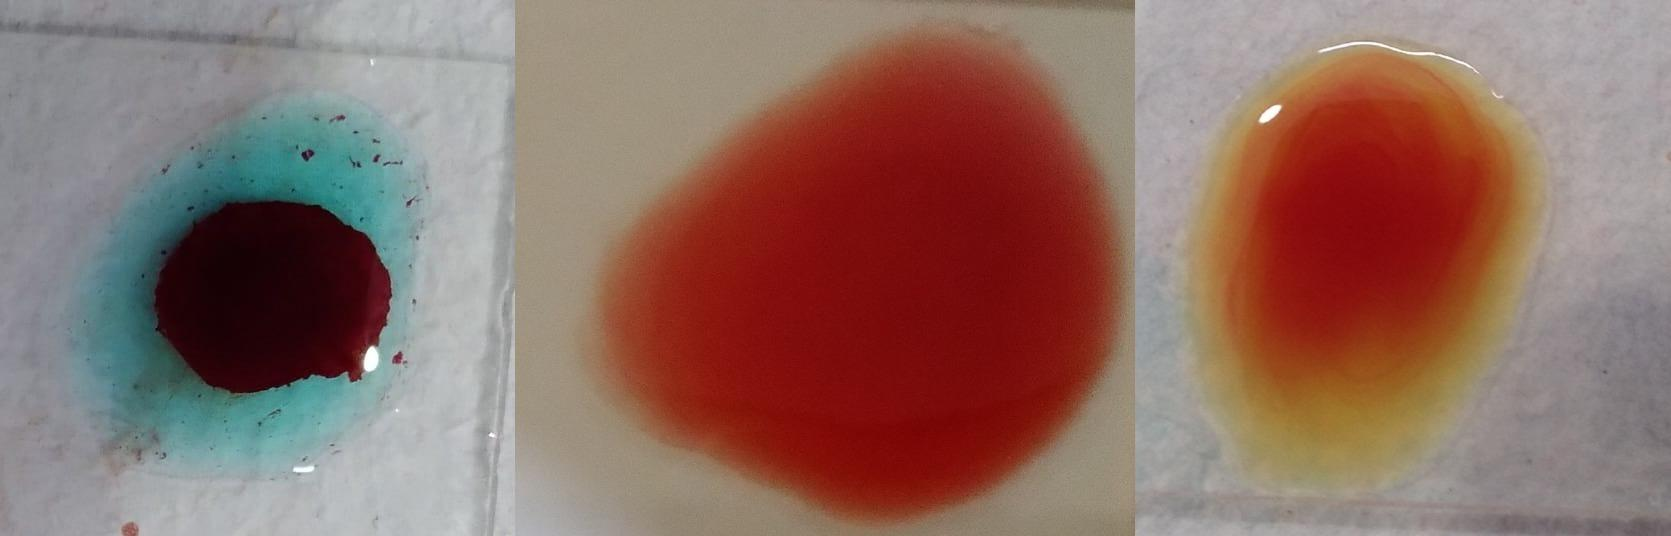A: (77, 112, 424, 460)
